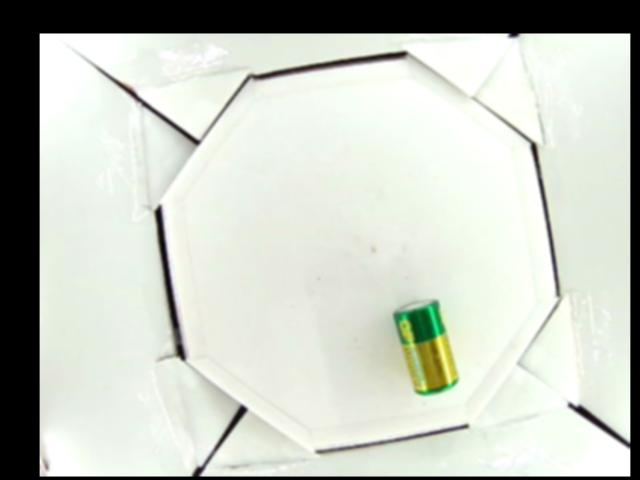Battery: (393, 298, 460, 395)
